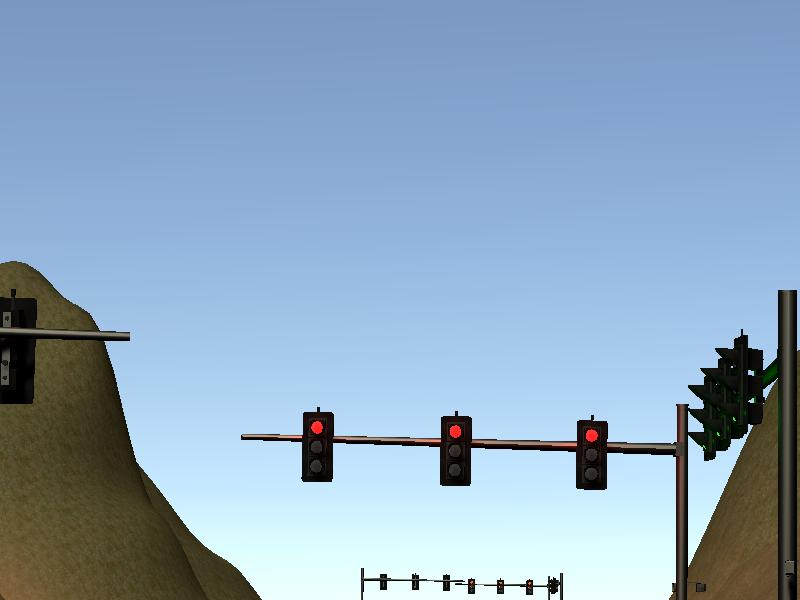Red: (302, 409, 333, 482), (441, 415, 470, 487), (577, 419, 606, 489)
